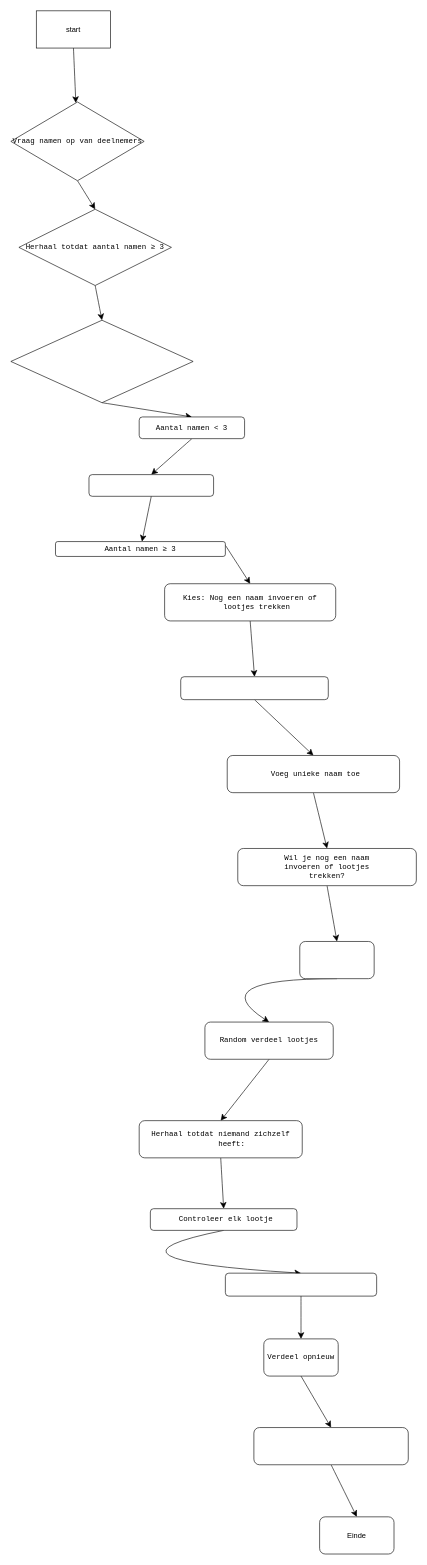
This 427x1565 diagram has some shape labels left out. Here are the shapes that lost their labels. From the top down, the box of each, then its label:
(10, 320, 193, 403): Voeg unieke naam toe aan lijst
(88, 474, 214, 496): Vraag opnieuw om naam
(180, 676, 328, 700): Nog een naam invoeren
(299, 941, 374, 979): Lootjes trekken
(225, 1273, 377, 1296): Iemand heeft zichzelf
(253, 1427, 408, 1465): Print lijst met namen en bijbehorende lootjes
